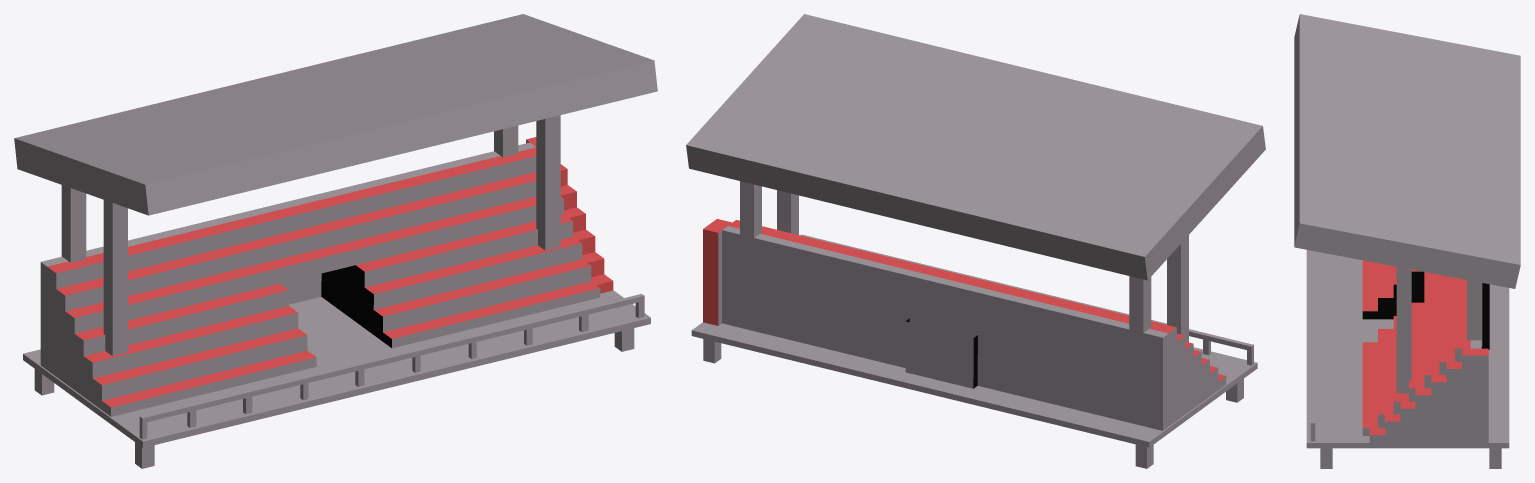
The model's file is Grand stand 2.fbx.
3 views of the same model, side by side, from view 1: azimuth 30°, elevation 25°; view 2: azimuth 150°, elevation 25°; view 3: azimuth 270°, elevation 25° (orthographic). The views are drawn at different scales.
Visible parts, largest first — view 1: GrandStand 2; view 2: GrandStand 2; view 3: GrandStand 2.
Boxes of the visible parts, bbox=[...] form: GrandStand 2: bbox=[14, 14, 657, 468]; GrandStand 2: bbox=[686, 14, 1265, 468]; GrandStand 2: bbox=[1294, 14, 1520, 468].
Bounding box in the file's own units: 2242 × 1241 × 1024.
